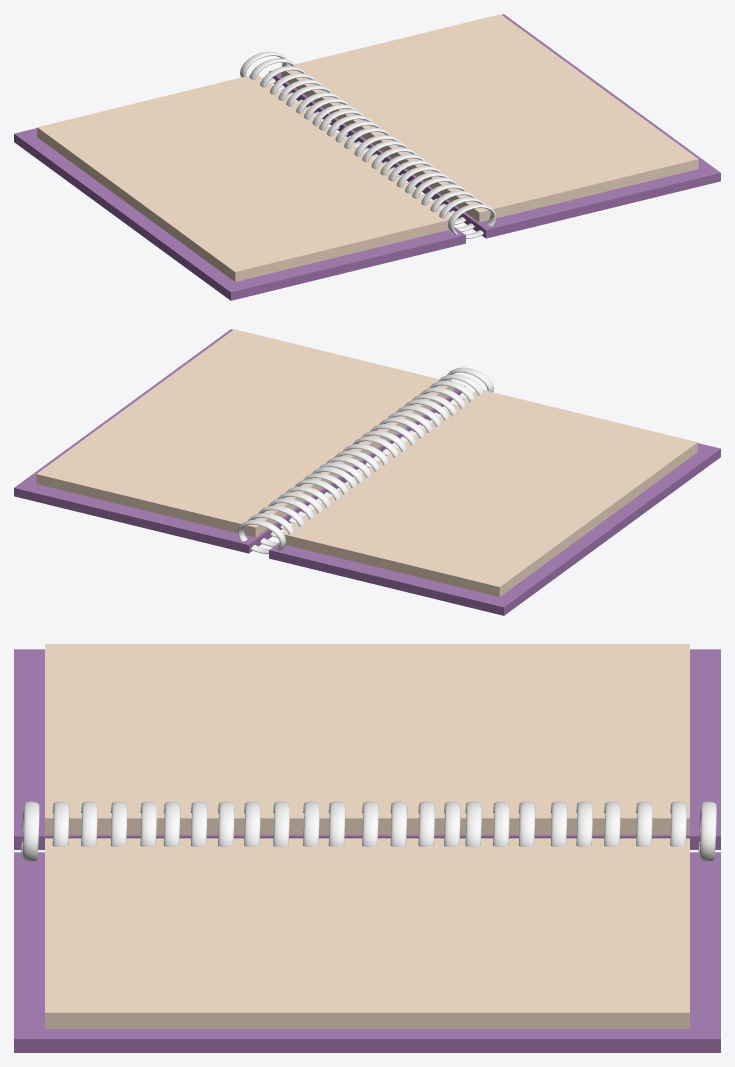
The model's file is note.fbx.
3 views of the same model, one above another, from view 1: azimuth 30°, elevation 25°; view 2: azimuth 150°, elevation 25°; view 3: azimuth 270°, elevation 25° (orthographic). The views are drawn at different scales.
Visible parts, largest first — view 1: pCube5, pCube6, pTorus25; view 2: pCube5, pCube6, pTorus1; view 3: pCube6, pCube5, pTorus1, pTorus25, pTorus7, pTorus6, pTorus20, pTorus22, pTorus14, pTorus24, pTorus12, pTorus19 (+15 smaller).
Boxes of the visible parts, box(x1,y1,x2,y2) form: pCube5: box(14, 75, 465, 300); pCube6: box(269, 14, 720, 238); pTorus25: box(447, 203, 496, 238); pCube5: box(269, 390, 720, 615); pCube6: box(14, 329, 465, 553); pTorus1: box(237, 519, 286, 554); pCube6: box(14, 838, 720, 1052); pCube5: box(14, 644, 720, 849); pTorus1: box(698, 801, 716, 861); pTorus25: box(21, 801, 39, 861); pTorus7: box(518, 801, 535, 846); pTorus6: box(550, 801, 567, 846); pTorus20: box(163, 801, 180, 846); pTorus22: box(110, 801, 127, 846); pTorus14: box(328, 801, 345, 846); pTorus24: box(52, 801, 69, 846); pTorus12: box(390, 801, 407, 846); pTorus19: box(190, 801, 207, 846).
Bounding box in the file's own units: 8.84 × 0.5448 × 6.78.
